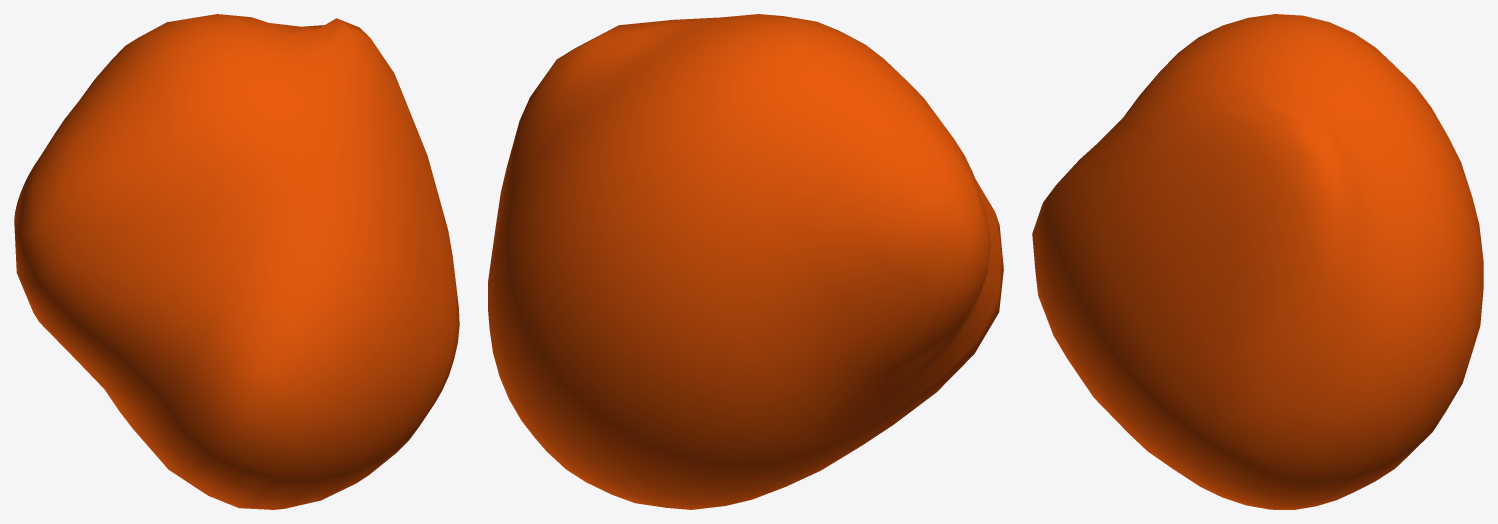
File: food.gltf
The picture shows the model from 3 angles, left to right: view 1: azimuth 30°, elevation 25°; view 2: azimuth 150°, elevation 25°; view 3: azimuth 270°, elevation 25°; orthographic projection. The views are drawn at different scales.
Parts seen in each view (by area): view 1: particle.070; view 2: particle.070; view 3: particle.070.
Part boxes in pixels (x1,y1,x2,y2): particle.070: [14, 14, 459, 509]; particle.070: [488, 14, 1003, 509]; particle.070: [1032, 14, 1483, 509].
Size of the model in its own units: 0.00623 by 0.00643 by 0.00609.
